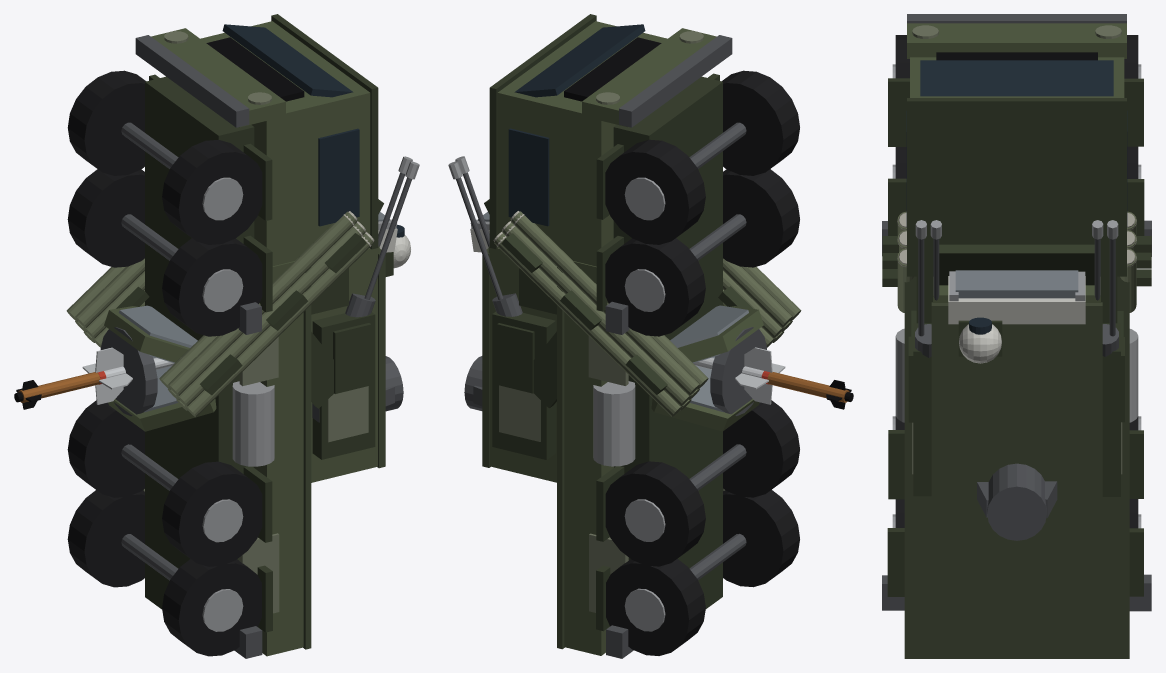
Rendered from AirDefence_MeshAtlas.glb.
The picture shows the model from 3 angles, left to right: view 1: azimuth 30°, elevation 25°; view 2: azimuth 150°, elevation 25°; view 3: azimuth 270°, elevation 25°; orthographic projection. The views are drawn at different scales.
Visible parts, largest first — view 1: AirDefence_Subpart_Chassis, AirDefence_Subpart_Turret, AirDefence_Subpart_Pods, AirDefence_Subpart_Radar, AirDefence_Subpart_Fins, AirDefence_Subpart_Missile; view 2: AirDefence_Subpart_Chassis, AirDefence_Subpart_Turret, AirDefence_Subpart_Pods, AirDefence_Subpart_Radar, AirDefence_Subpart_Fins, AirDefence_Subpart_Missile; view 3: AirDefence_Subpart_Chassis, AirDefence_Subpart_Turret, AirDefence_Subpart_Pods.
Boxes of the visible parts, x1,y1,x2,y2 form: AirDefence_Subpart_Chassis: [67, 14, 378, 658]; AirDefence_Subpart_Turret: [311, 156, 419, 482]; AirDefence_Subpart_Pods: [66, 211, 374, 417]; AirDefence_Subpart_Radar: [100, 305, 216, 431]; AirDefence_Subpart_Fins: [16, 347, 132, 409]; AirDefence_Subpart_Missile: [14, 357, 174, 402]; AirDefence_Subpart_Chassis: [489, 14, 799, 658]; AirDefence_Subpart_Turret: [448, 156, 556, 482]; AirDefence_Subpart_Pods: [493, 211, 801, 416]; AirDefence_Subpart_Radar: [651, 305, 766, 431]; AirDefence_Subpart_Fins: [735, 347, 851, 409]; AirDefence_Subpart_Missile: [693, 357, 853, 402]; AirDefence_Subpart_Chassis: [882, 14, 1151, 658]; AirDefence_Subpart_Turret: [908, 220, 1124, 540]; AirDefence_Subpart_Pods: [882, 211, 1151, 336].
Bounding box in the file's own units: 5.7 × 8.04 × 3.25.
Materials: 1 (1 with a texture image).
